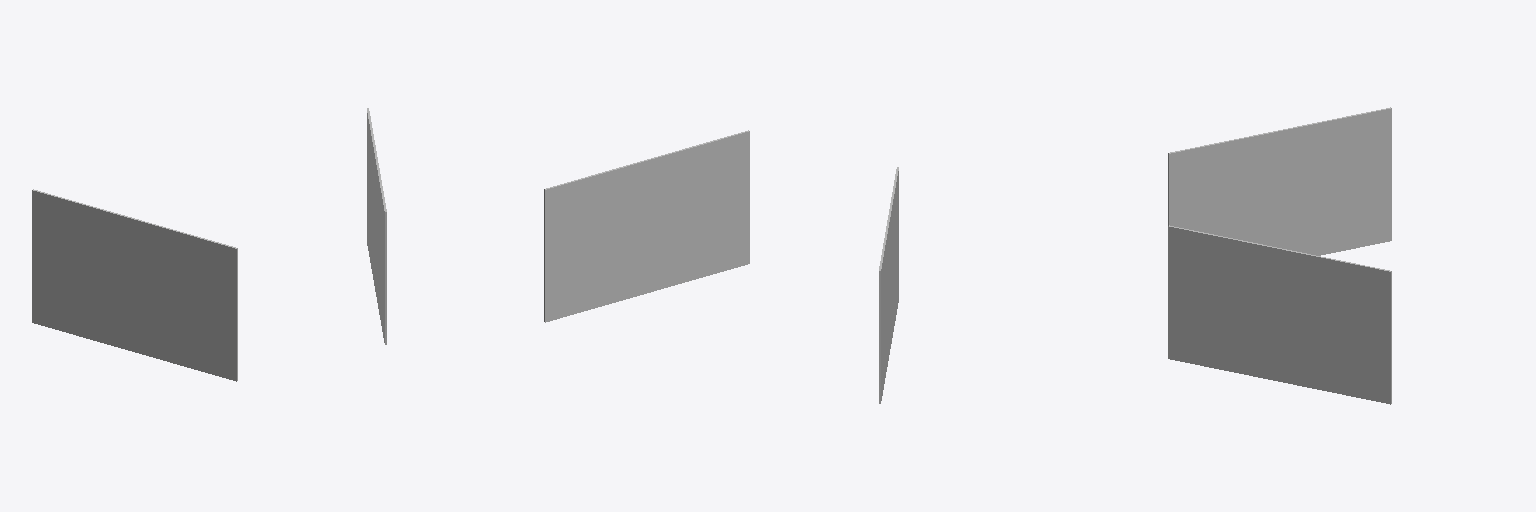
The model's file is turrent-protection.obj.
3 renders of one model, left to right at view 1: azimuth 30°, elevation 25°; view 2: azimuth 150°, elevation 25°; view 3: azimuth 270°, elevation 25°, orthographic.
Visible parts, largest first — view 1: turrent-protection; view 2: turrent-protection; view 3: turrent-protection.
Part boxes in pixels (bbox=[...]): turrent-protection: bbox=[32, 108, 386, 381]; turrent-protection: bbox=[544, 130, 898, 403]; turrent-protection: bbox=[1168, 107, 1391, 404].
Bounding box in the file's own units: 2.07 × 0.7781 × 1.19.